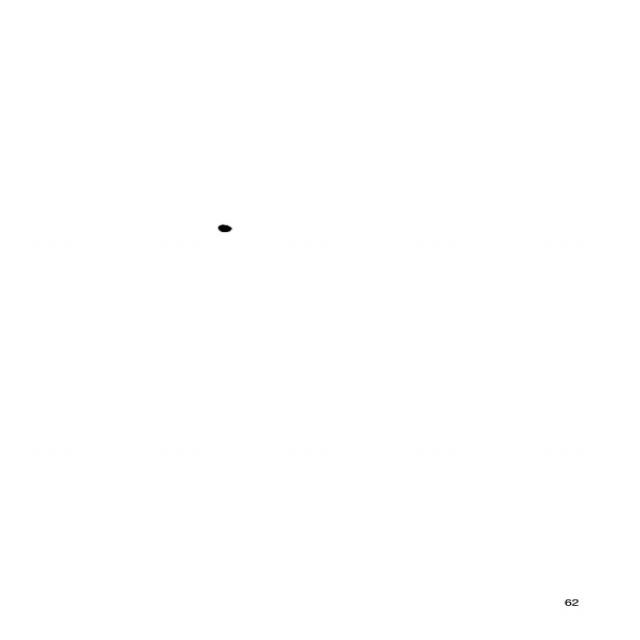0 -zero-: (210, 219, 242, 239)
